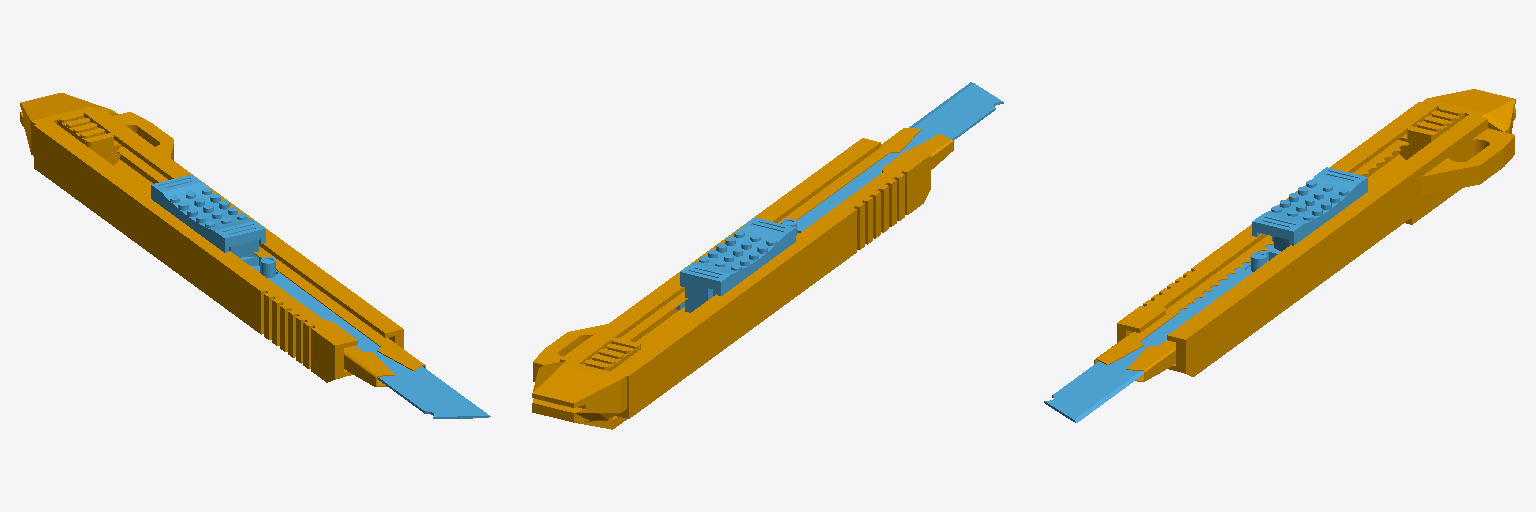
The robot description file, URDF, robot "blade_103706":
<?xml version="1.0"?>
<robot name="blade_103706">
  <link name="base_link">
    <inertial>
      <origin xyz="0 0 0" rpy="0 0 0"/>
      <mass value="1"/>
      <inertia ixx="0.001" ixy="0" ixz="0" iyy="0.001" iyz="0" izz="0.001"/>
    </inertial>
    <visual>
      <origin xyz="0 0 0" rpy="0 0 0"/>
      <geometry>
        <mesh filename="meshes/base_link.obj" scale="1 1 1"/>
      </geometry>
    </visual>
    <collision>
      <origin xyz="0 0 0" rpy="0 0 0"/>
      <geometry>
        <mesh filename="meshes/base_link.obj" scale="1 1 1"/>
      </geometry>
    </collision>
  </link>
  <link name="moving_link">
    <inertial>
      <origin xyz="0 0 0" rpy="0 0 0"/>
      <mass value="1"/>
      <inertia ixx="0.001" ixy="0" ixz="0" iyy="0.001" iyz="0" izz="0.001"/>
    </inertial>
    <visual>
      <origin xyz="0 0 0" rpy="0 0 0"/>
      <geometry>
        <mesh filename="meshes/moving_link.obj" scale="1 1 1"/>
      </geometry>
    </visual>
    <collision>
      <origin xyz="0 0 0" rpy="0 0 0"/>
      <geometry>
        <mesh filename="meshes/moving_link.obj" scale="1 1 1"/>
      </geometry>
    </collision>
  </link>
  <joint name="blade_103706_joint" type="prismatic">
    <parent link="base_link"/>
    <child link="moving_link"/>
    <origin xyz="0 0 0" rpy="0 0 0"/>
    <axis xyz="0 -1 0"/>
    <limit lower="-0.2" upper="0" effort="100" velocity="10"/>
  </joint>
</robot>

--- Render facts (derived) ---
The picture shows the robot from 3 angles, left to right: view 1: azimuth 30°, elevation 25°; view 2: azimuth 150°, elevation 25°; view 3: azimuth 330°, elevation 25°; orthographic projection.
Robot: blade_103706 — 2 links, 1 joints (1 prismatic); root link base_link; default pose: every joint at zero.
Visible links, largest first — view 1: base_link, moving_link; view 2: base_link, moving_link; view 3: base_link, moving_link.
Boxes of the visible links, x1,y1,x2,y2 form: base_link: (20, 93, 425, 386); moving_link: (151, 175, 490, 418); base_link: (532, 128, 953, 429); moving_link: (675, 82, 1003, 312); base_link: (1094, 89, 1515, 381); moving_link: (1044, 167, 1367, 422).
Bounding box of the posed robot: 0.2885 × 2.15 × 0.1967 m (x, y, z).
2 mesh visuals loaded from 2 distinct referenced files (2 OBJ).
